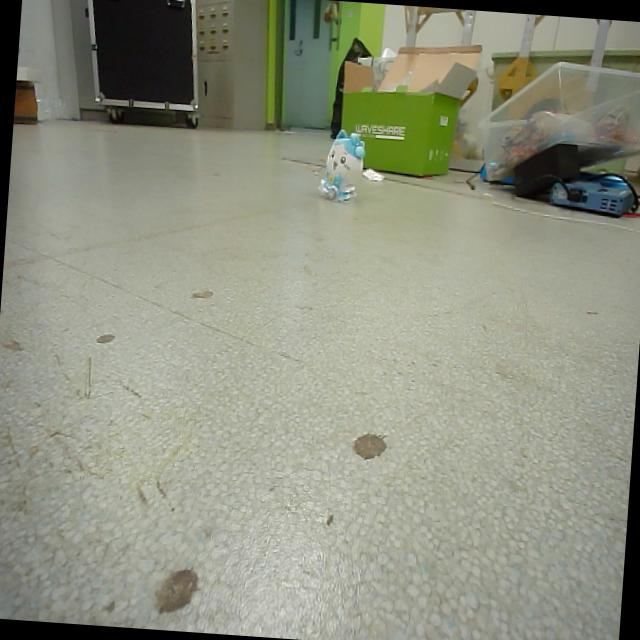xiaoba: (322, 122, 369, 204)
